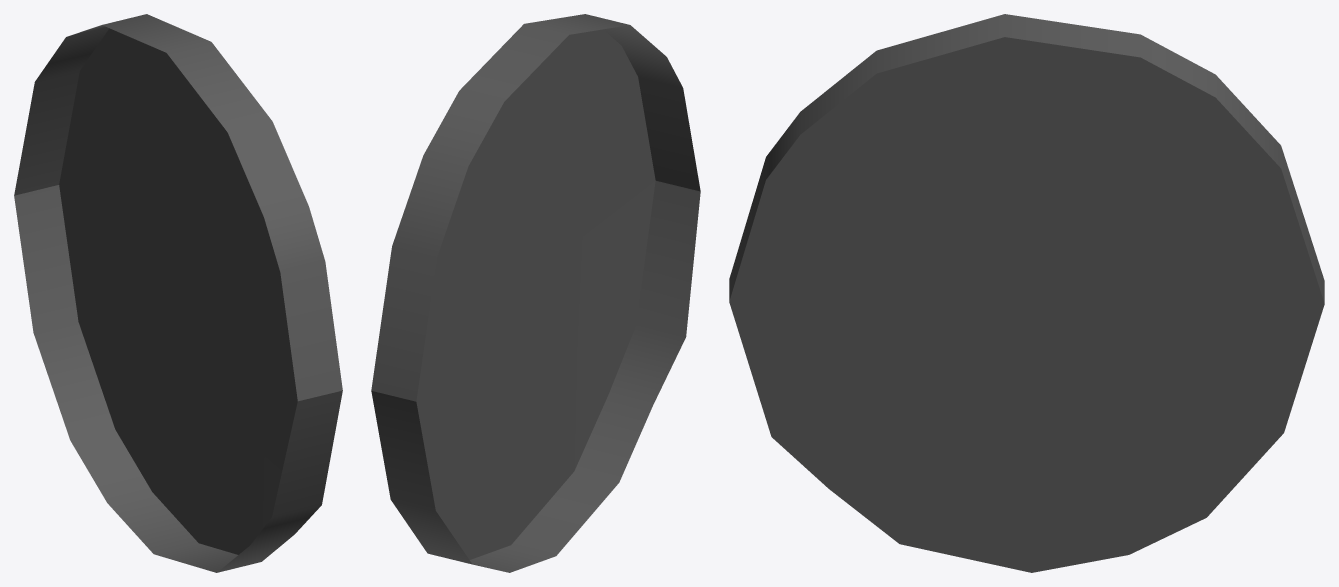
File: Bedroom_2_Mirror.fbx
The picture shows the model from 3 angles, left to right: view 1: azimuth 30°, elevation 25°; view 2: azimuth 150°, elevation 25°; view 3: azimuth 270°, elevation 25°; orthographic projection. The views are drawn at different scales.
Visible parts, largest first — view 1: Bedroom_2_Mirror; view 2: Bedroom_2_Mirror; view 3: Bedroom_2_Mirror.
Part boxes in pixels (left/top/right/bottom): Bedroom_2_Mirror: left=14, top=14, right=342, bottom=572; Bedroom_2_Mirror: left=371, top=14, right=700, bottom=572; Bedroom_2_Mirror: left=729, top=14, right=1324, bottom=572.
Size of the model in its own units: 6.74 by 64.94 by 65.4.
